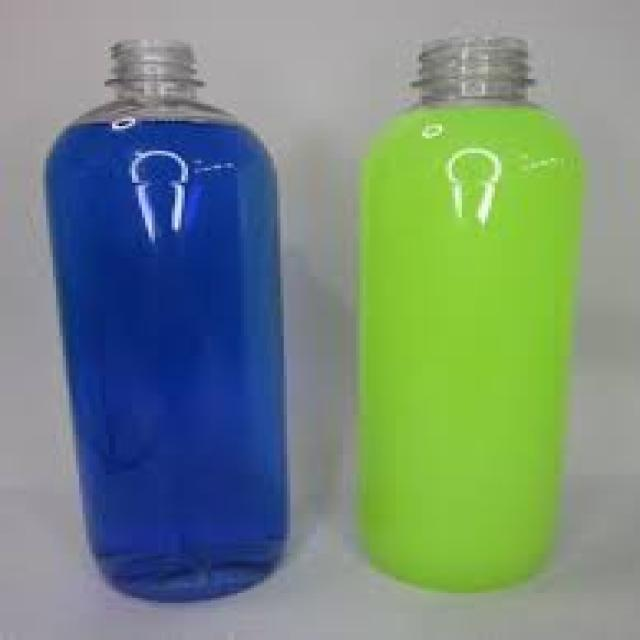bottom: (44, 505, 310, 605), (338, 516, 587, 598)
no_cap: (401, 30, 548, 112), (94, 34, 214, 104)
